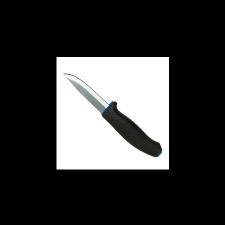k1: (62, 71, 117, 121)
